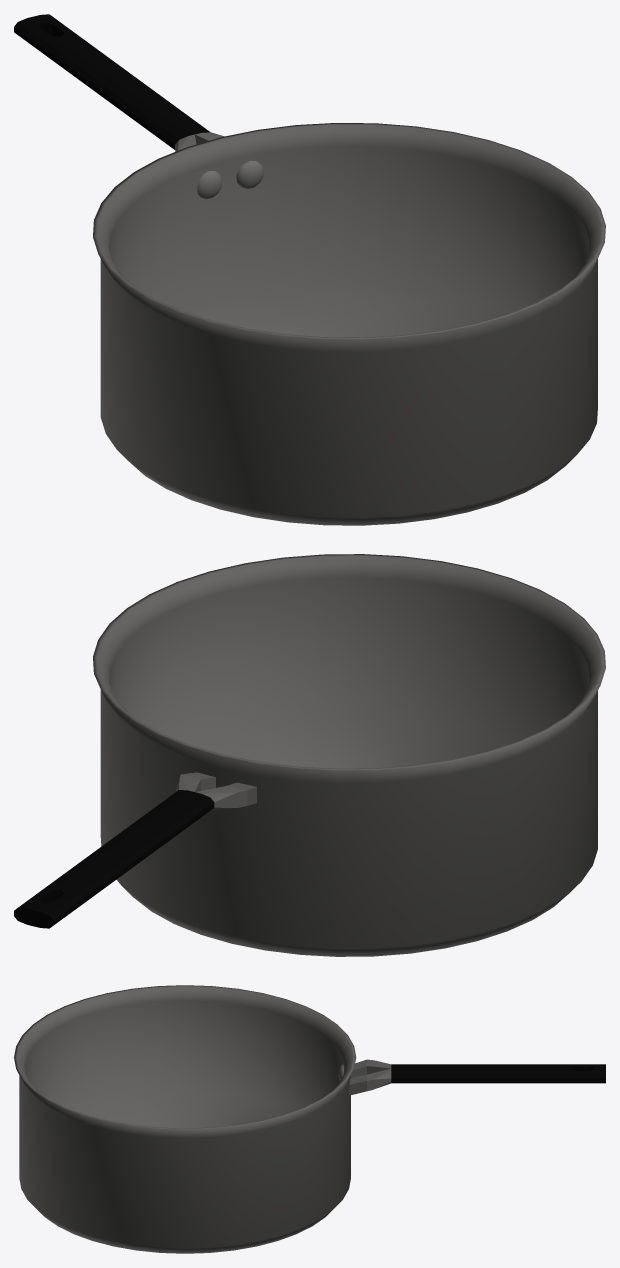
Rendered from _arge_Pot.fbx.
3 renders of one model, top to bottom at view 1: azimuth 30°, elevation 25°; view 2: azimuth 150°, elevation 25°; view 3: azimuth 270°, elevation 25°, orthographic. The views are drawn at different scales.
Visible parts, largest first — view 1: Sphere.005; view 2: Sphere.005; view 3: Sphere.005.
Boxes of the visible parts, x1,y1,x2,y2 form: Sphere.005: (14,14,605,525); Sphere.005: (14,554,605,956); Sphere.005: (14,985,605,1253).
Bounding box in the file's own units: 25.04 × 10.48 × 43.3.
